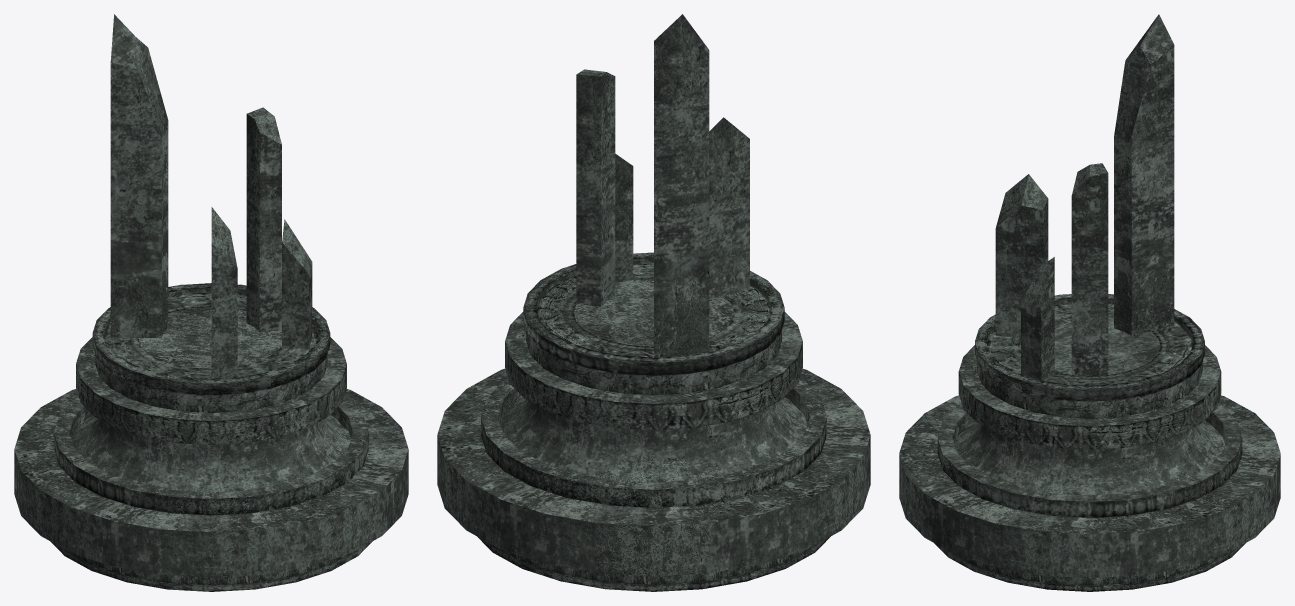
3 renders of one model, left to right at view 1: azimuth 30°, elevation 25°; view 2: azimuth 150°, elevation 25°; view 3: azimuth 270°, elevation 25°, orthographic. The views are drawn at different scales.
Parts seen in each view (by area): view 1: mg_9_object_1; view 2: mg_9_object_1; view 3: mg_9_object_1.
Boxes of the visible parts, bbox=[...] form: mg_9_object_1: bbox=[14, 14, 408, 591]; mg_9_object_1: bbox=[437, 14, 870, 591]; mg_9_object_1: bbox=[899, 14, 1280, 591].
Bounding box in the file's own units: 586 × 812 × 586.
